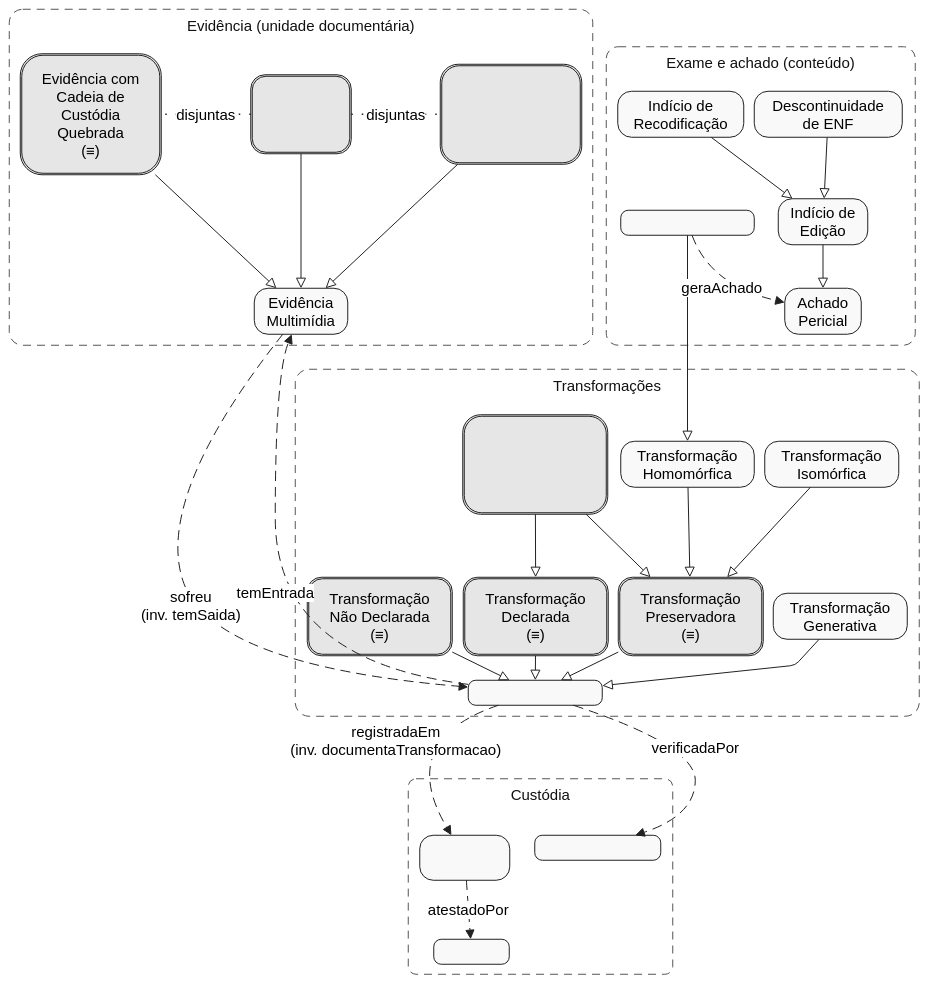
This 928x983 diagram has some shape labels left out. The centre of each missing label's shape, as x and y in pixels:
"Agente" goes at (471,951).
"Evidência com Conteúdo Alterado (≡)" goes at (511,114).
"Evidência Íntegra (≡)" goes at (301,114).
"Exame Pericial" goes at (687,223).
"Registro de Custódia" goes at (464,857).
"Transformação" goes at (535,693).
"Transformação Preservadora Declarada (≡)" goes at (535,464).
"Valor de Hash" goes at (597,847).
